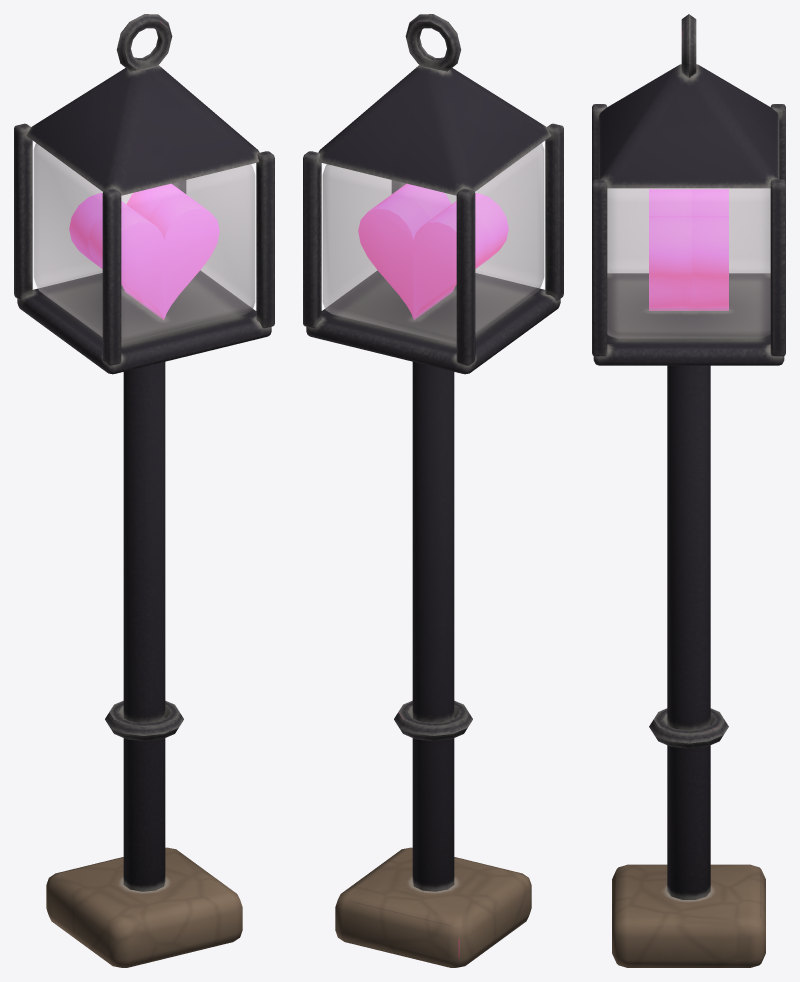
Rendered from en_heart_lantern.glb.
3 renders of one model, left to right at view 1: azimuth 30°, elevation 25°; view 2: azimuth 150°, elevation 25°; view 3: azimuth 270°, elevation 25°, orthographic.
Visible parts, largest first — view 1: en_heart_lantern; view 2: en_heart_lantern; view 3: en_heart_lantern.
Boxes of the visible parts, x1,y1,x2,y2 form: en_heart_lantern: [14, 14, 274, 967]; en_heart_lantern: [303, 14, 563, 967]; en_heart_lantern: [592, 14, 785, 967].
Bounding box in the file's own units: 0.63 × 3.32 × 0.63.
4 materials, 4 textured.
